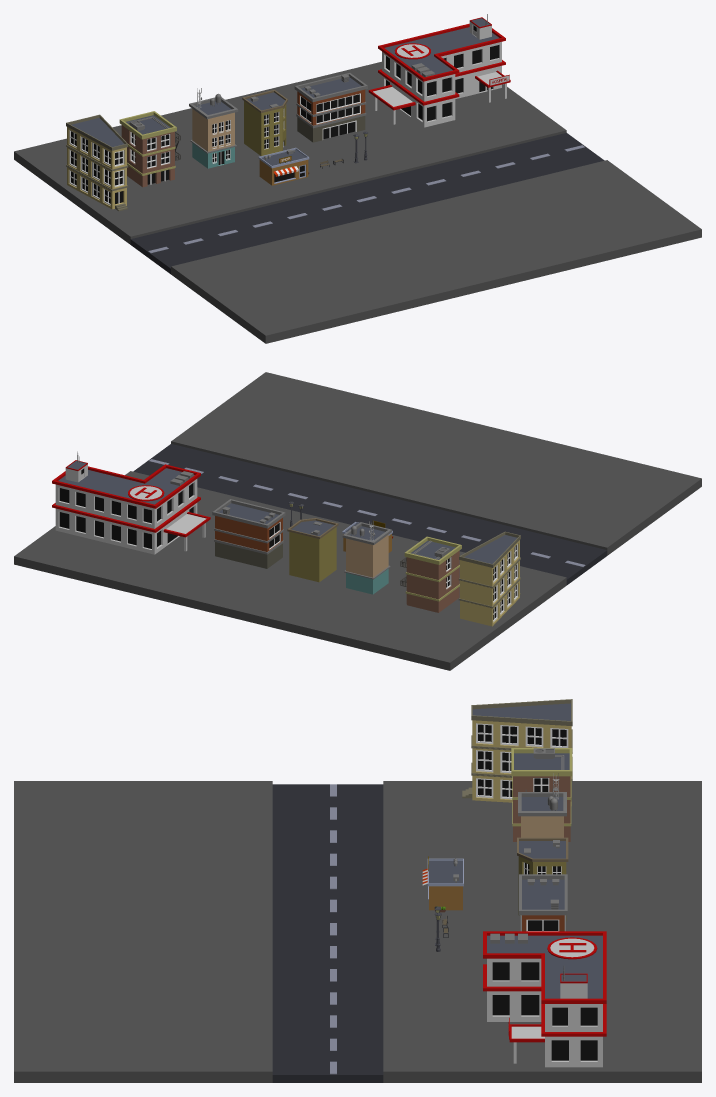
File: CityPack.fbx
3 views of the same model, one above another, from view 1: azimuth 30°, elevation 25°; view 2: azimuth 150°, elevation 25°; view 3: azimuth 270°, elevation 25° (orthographic). The views are drawn at different scales.
Parts seen in each view (by area): view 1: Road, Hospital, B4_Base, B5_Base, B3_Base, B1_Base, B2_Base, Shop1, B3_Base2, B3_Details, B4_Base2; view 2: Road, Hospital, B4_Base, B5_Base, B3_Base, B2_Base, B1_Base, B3_Base2, B1_Details, B4_Base2; view 3: Road, Hospital, B4_Base, B5_Base, Shop1, B3_Base, B1_Base, B2_Base, B4_Base2, B3_Base2, B1_Details.
Boxes of the visible parts, x1,y1,x2,y2 form: Road: (14,61,701,343); Hospital: (368,14,510,127); B4_Base: (66,118,128,211); B5_Base: (119,111,176,187); B3_Base: (296,77,366,142); B1_Base: (192,101,234,168); B2_Base: (244,92,286,155); Shop1: (258,147,309,185); B3_Base2: (294,73,367,102); B3_Details: (300,93,360,139); B4_Base2: (66,114,127,150); Road: (14,372,701,670); Hospital: (52,451,210,554); B4_Base: (458,535,520,626); B5_Base: (404,536,461,612); B3_Base: (214,503,283,568); B2_Base: (289,520,336,582); B1_Base: (346,526,388,594); B3_Base2: (212,499,285,528); B1_Details: (342,522,391,579); B4_Base2: (459,531,520,567); Road: (14,781,701,1082); Hospital: (483,931,606,1067); B4_Base: (462,703,572,805); B5_Base: (511,748,572,841); Shop1: (422,856,463,912); B3_Base: (520,879,565,931); B1_Base: (521,797,563,837); B2_Base: (518,841,566,920); B4_Base2: (471,699,572,726); B3_Base2: (519,874,567,915); B1_Details: (518,792,566,816).
Bounding box in the file's own units: 97.78 × 16.99 × 97.78.
